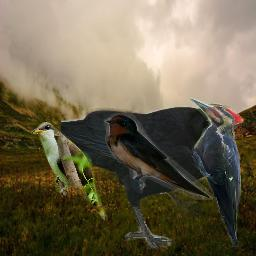Crow: (61, 103, 235, 249)
Cuckoo: (29, 122, 112, 221)
Swallow: (103, 113, 213, 200)
Woodpecker: (187, 97, 244, 247)
